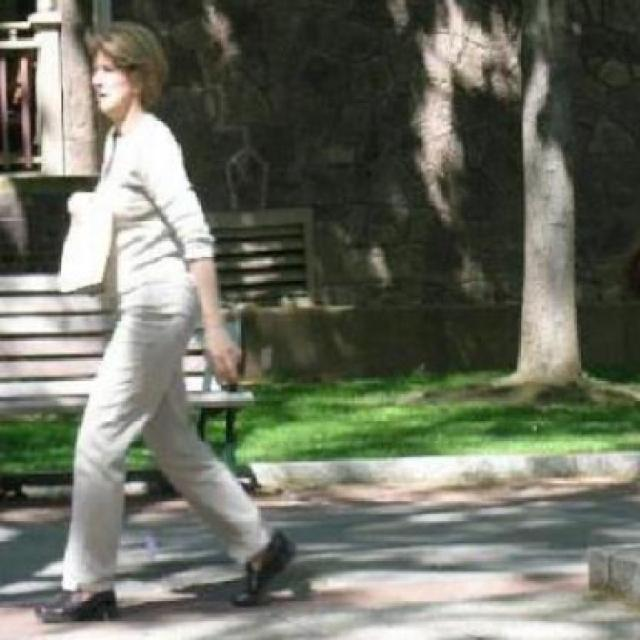Person: (40, 20, 298, 629)
